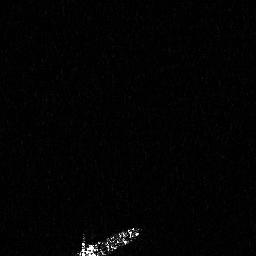ship: (72, 219, 144, 256)
